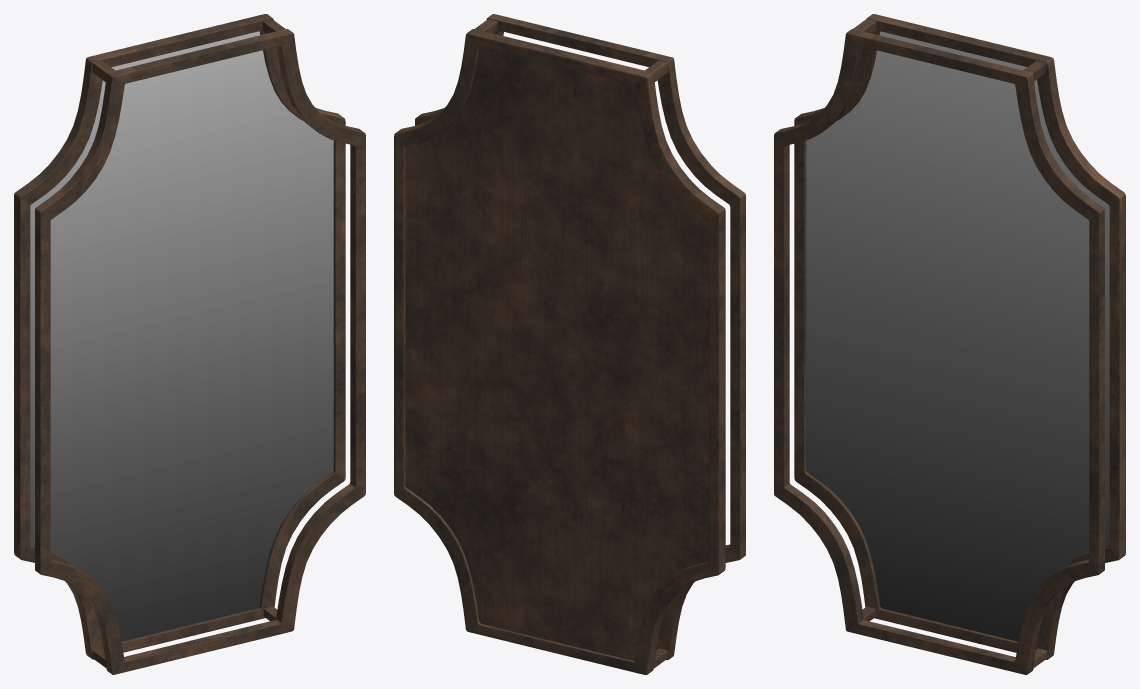
Rendered from mirror_B073WH7PZ7.glb.
The picture shows the model from 3 angles, left to right: view 1: azimuth 30°, elevation 25°; view 2: azimuth 150°, elevation 25°; view 3: azimuth 330°, elevation 25°; orthographic projection.
Parts seen in each view (by area): view 1: RootNode; view 2: RootNode; view 3: RootNode.
Boxes of the visible parts, x1=… form: RootNode: x1=14, y1=14, x2=365, y2=674; RootNode: x1=394, y1=14, x2=745, y2=674; RootNode: x1=774, y1=14, x2=1125, y2=674.
Size of the model in its own units: 0.4617 by 0.8112 by 0.0657.
Materials: 1 (1 with a texture image).
